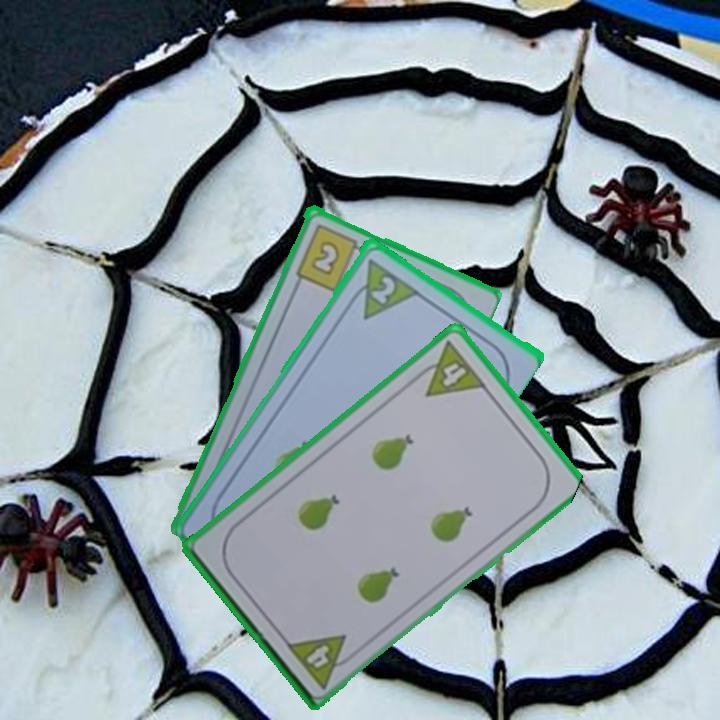2b: (292, 220, 368, 294)
2p: (343, 253, 420, 322)
4p: (409, 337, 489, 400), (282, 630, 360, 692)
